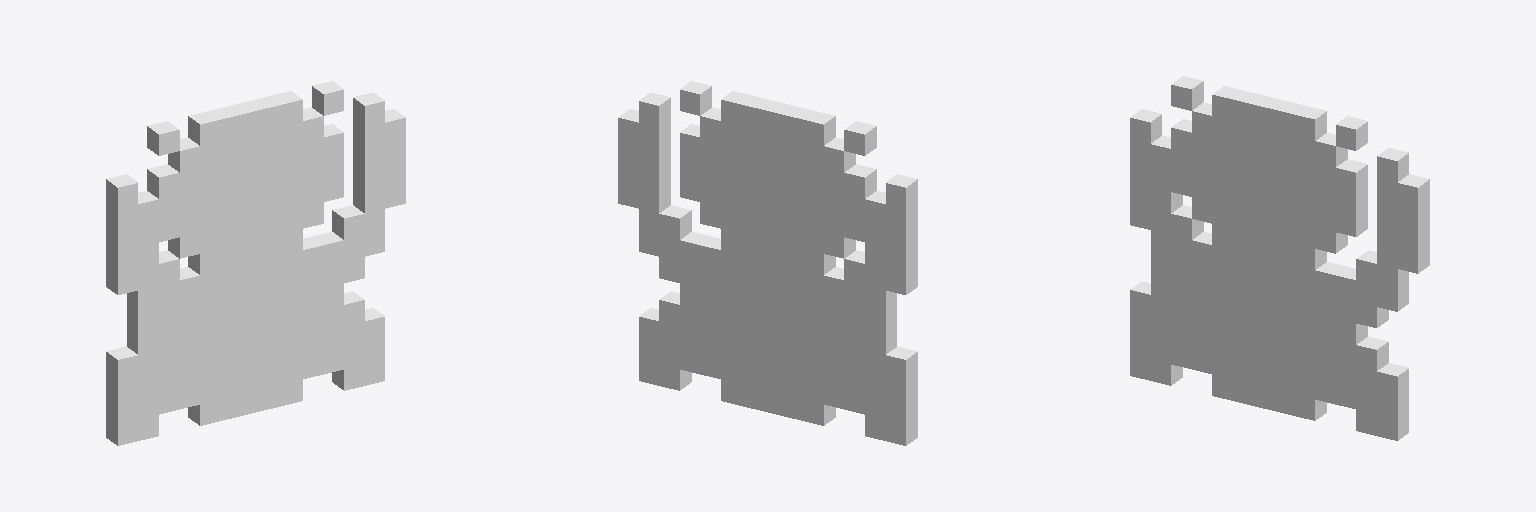
File: Die1.obj
The picture shows the model from 3 angles: view 1: azimuth 30°, elevation 25°; view 2: azimuth 150°, elevation 25°; view 3: azimuth 330°, elevation 25°; orthographic projection.
Visible parts, largest first — view 1: object 1; view 2: object 1; view 3: object 1.
Boxes of the visible parts, box(x1,y1,x2,y2) form: object 1: box(106, 81, 405, 445); object 1: box(618, 81, 917, 445); object 1: box(1130, 76, 1429, 440).
Bounding box in the file's own units: 1.4 × 1.4 × 0.1.